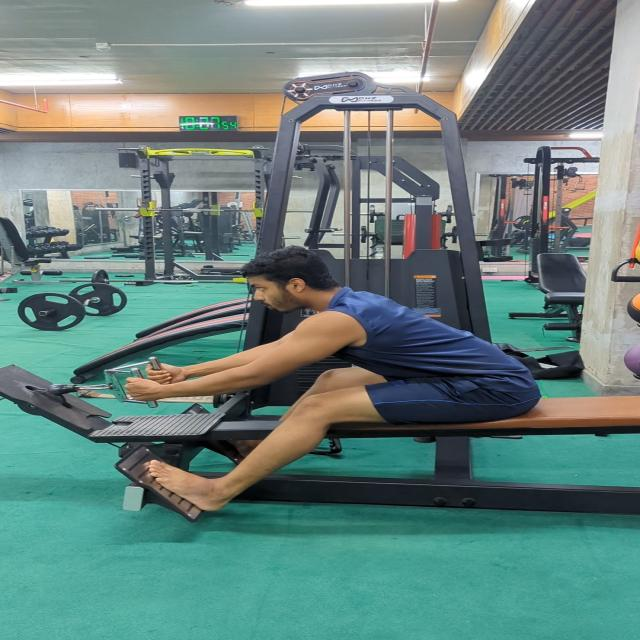Normal_RowingMachineExercise: (123, 247, 541, 516)
